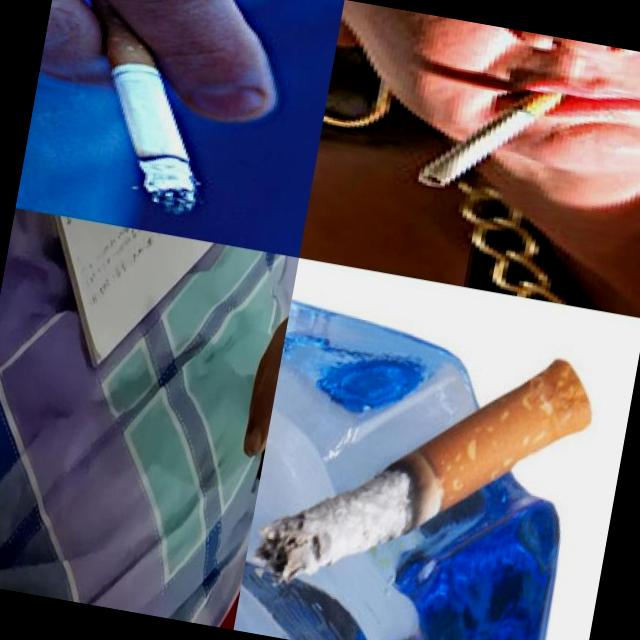smoke: (251, 309, 604, 629), (73, 17, 226, 218), (414, 68, 564, 207)
